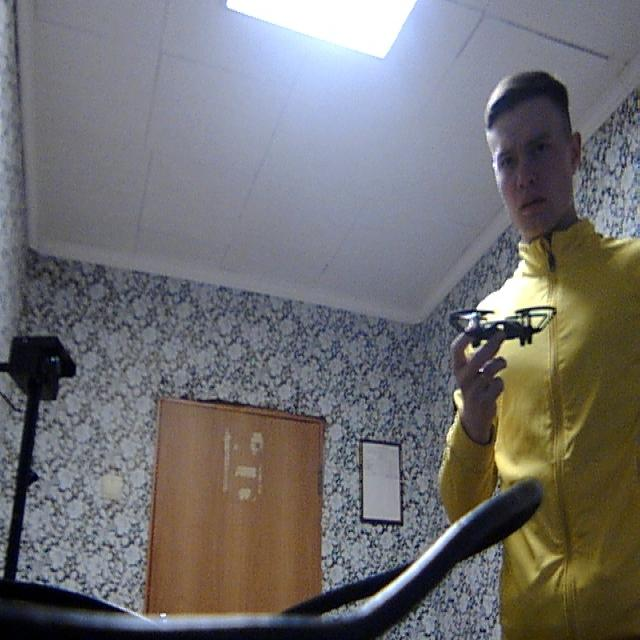drone: (435, 282, 562, 360)
